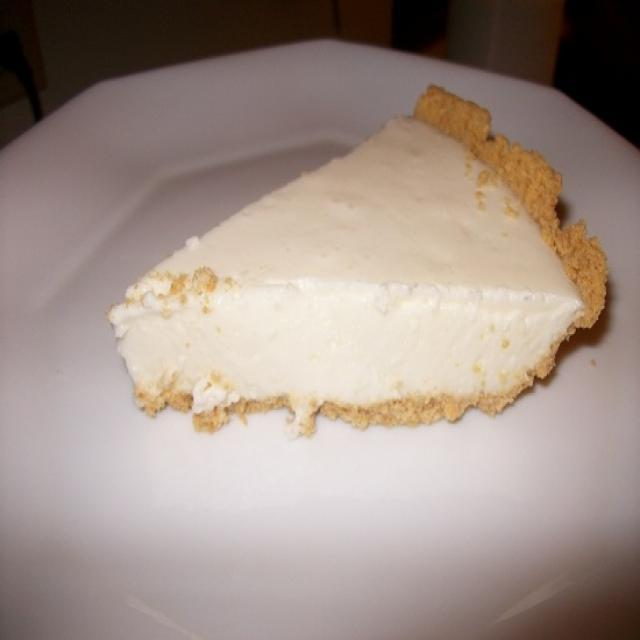Rare cheese cake: (91, 78, 611, 443)
